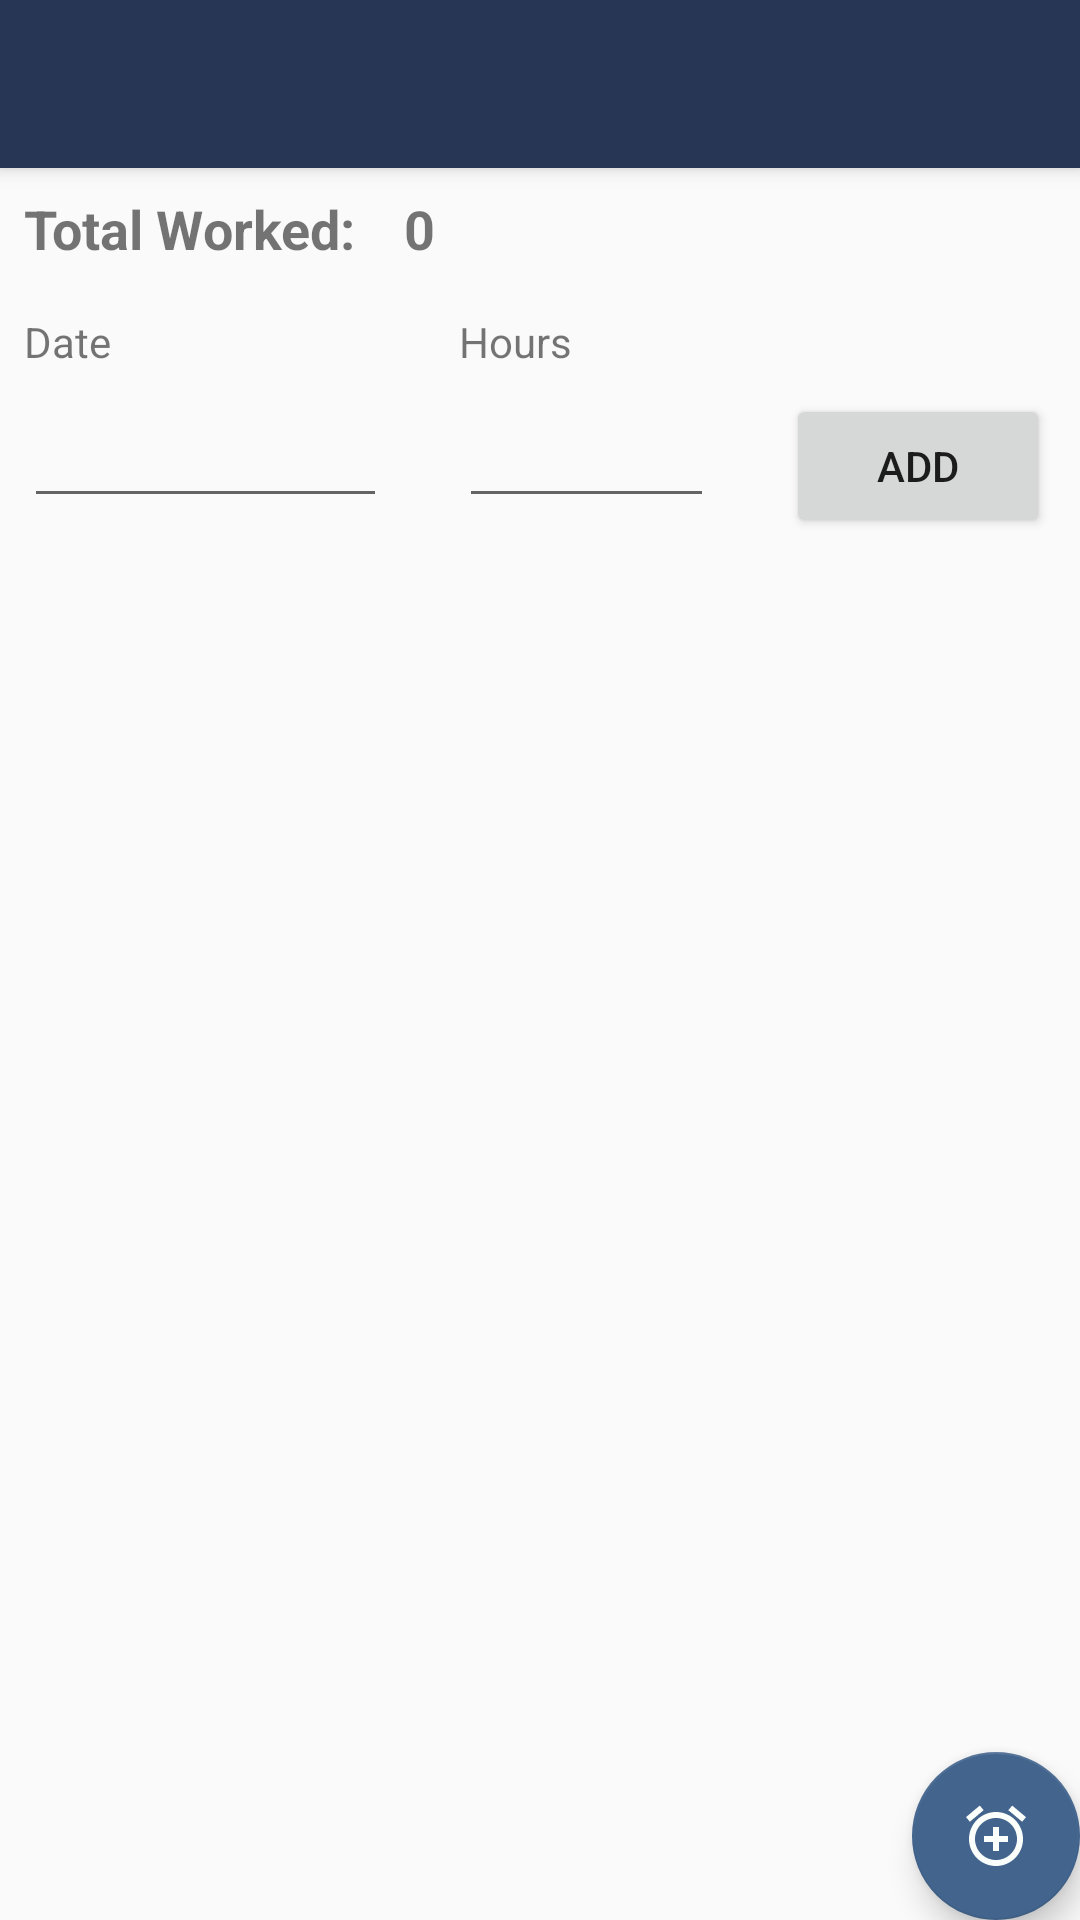

Icons on this 1080×1920 Android screen, each with its box as (left=x1, top=y1, right=x2, bottom=y2):
alarm add: (left=912, top=1752, right=1080, bottom=1920)
